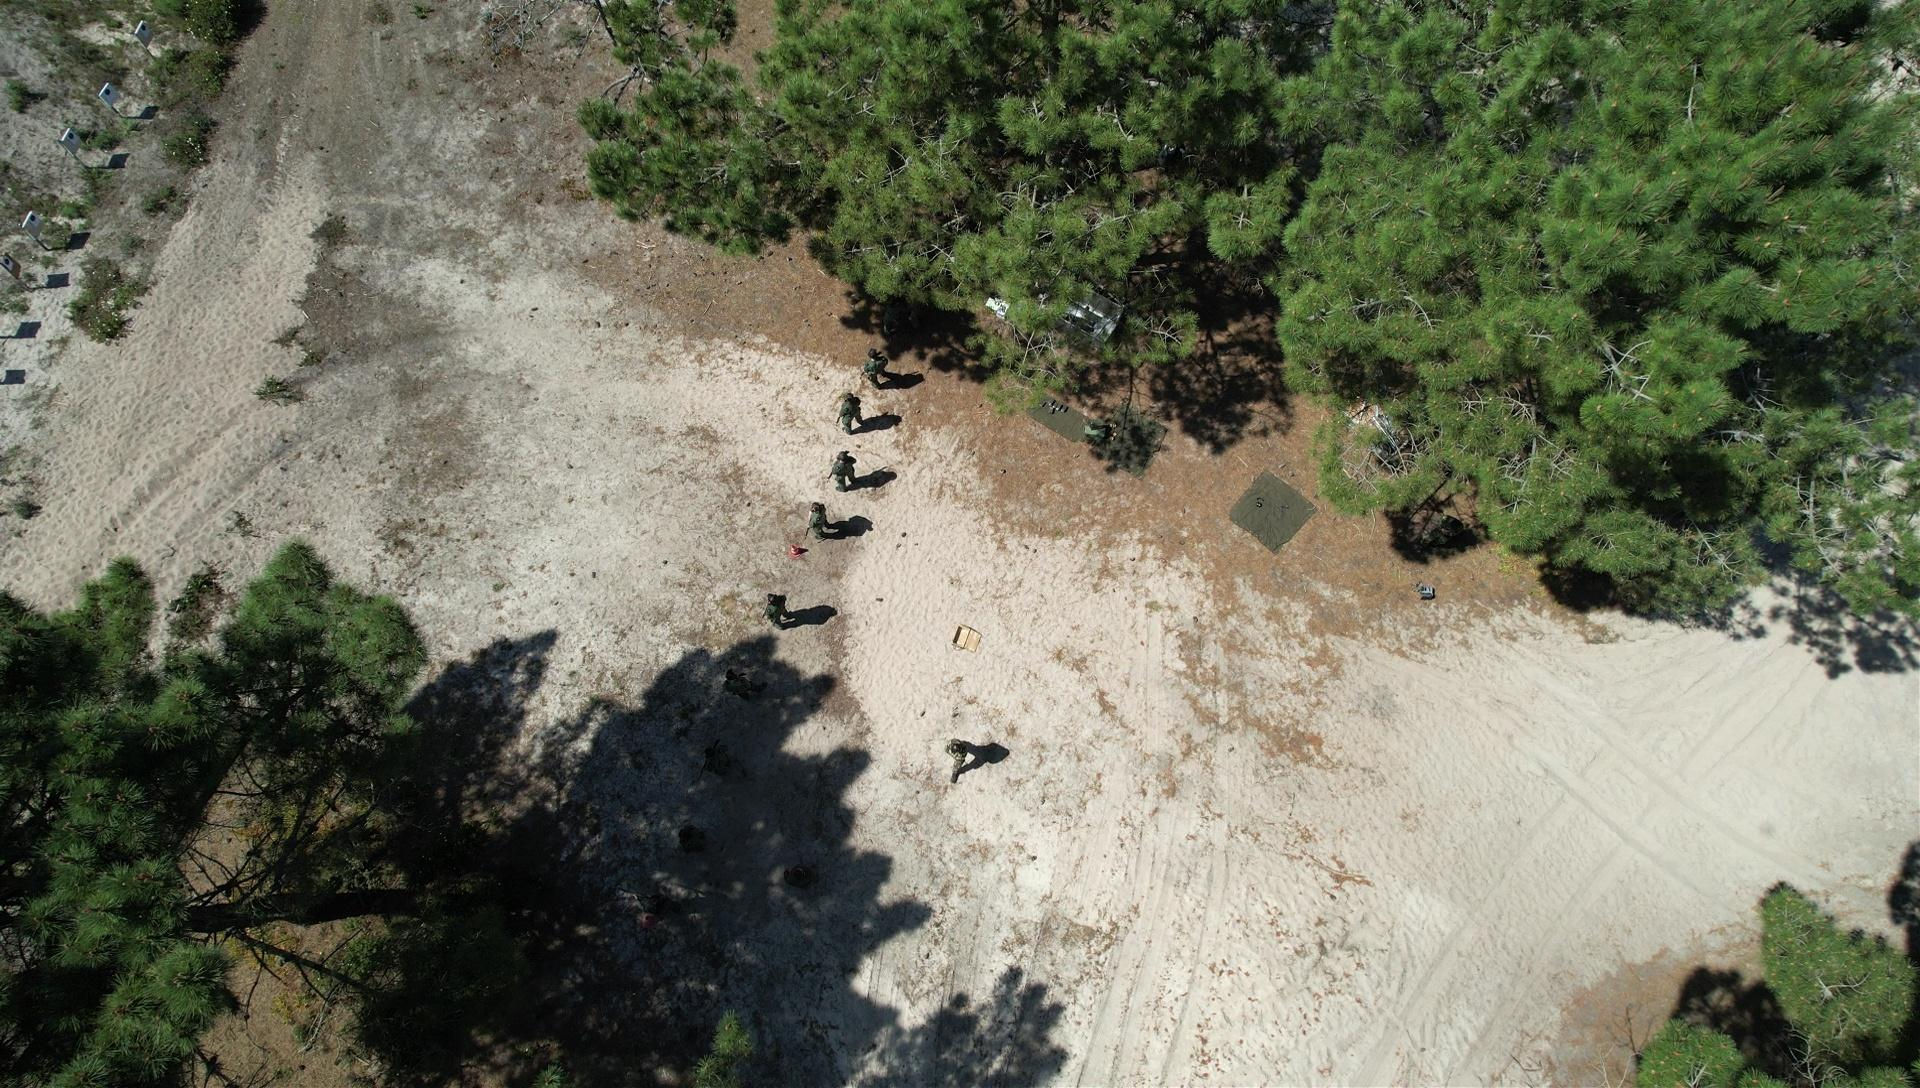Soldier: (692, 731, 756, 794), (773, 855, 839, 903), (833, 390, 876, 444), (724, 663, 767, 713), (761, 587, 804, 634), (825, 450, 868, 499), (862, 343, 898, 390), (673, 823, 713, 864), (806, 499, 839, 549), (943, 735, 973, 778)
